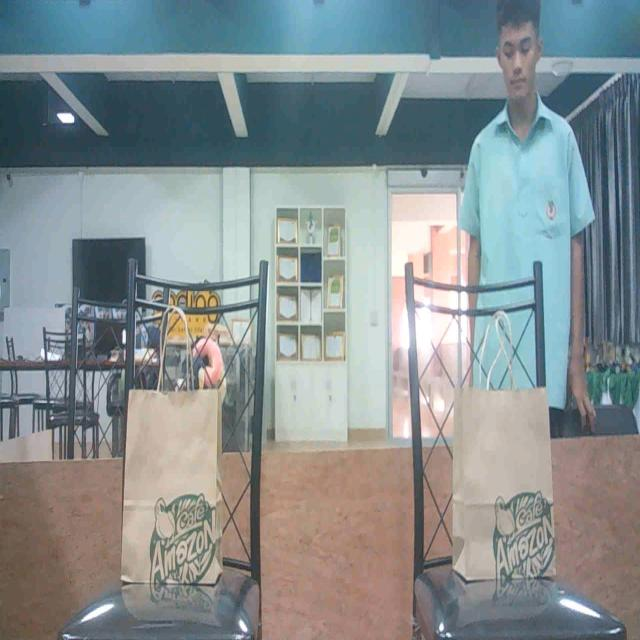bag: (452, 382, 556, 584), (131, 390, 219, 590)
